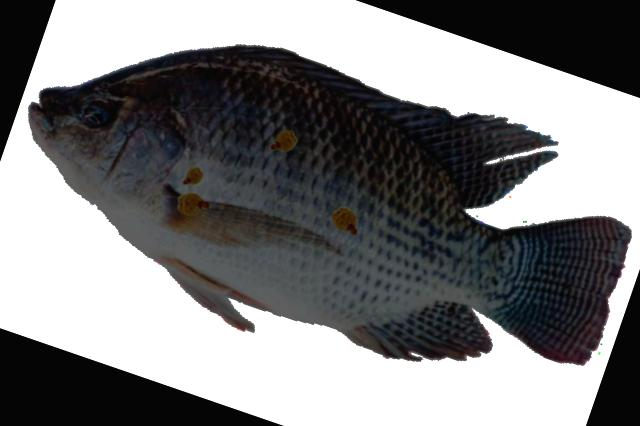Parasitic Disease: (29, 46, 628, 362)
